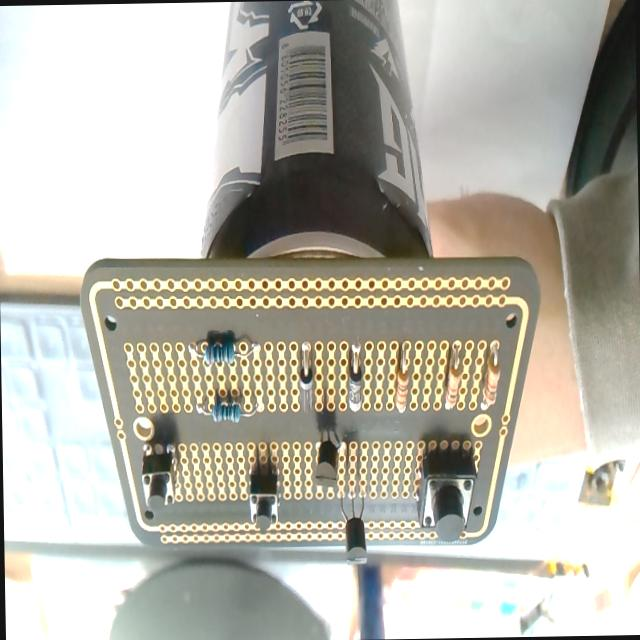diode: (347, 341, 364, 413), (298, 340, 314, 414)
resistor: (188, 332, 257, 367), (197, 388, 257, 423), (478, 342, 501, 410), (443, 343, 463, 410), (394, 343, 411, 412)
switch: (414, 443, 478, 542), (139, 442, 176, 512), (247, 459, 279, 532)
transistor: (338, 485, 368, 567), (310, 428, 346, 488)
